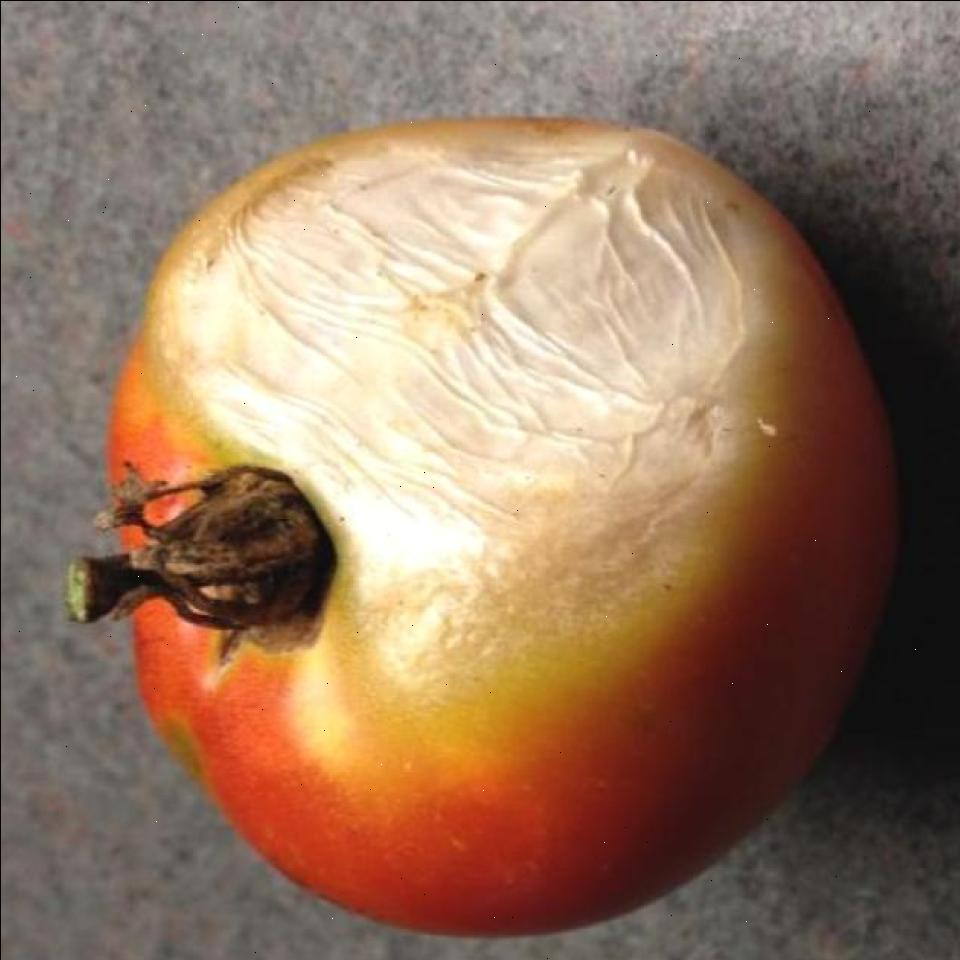Sunscald: (138, 109, 814, 694)
